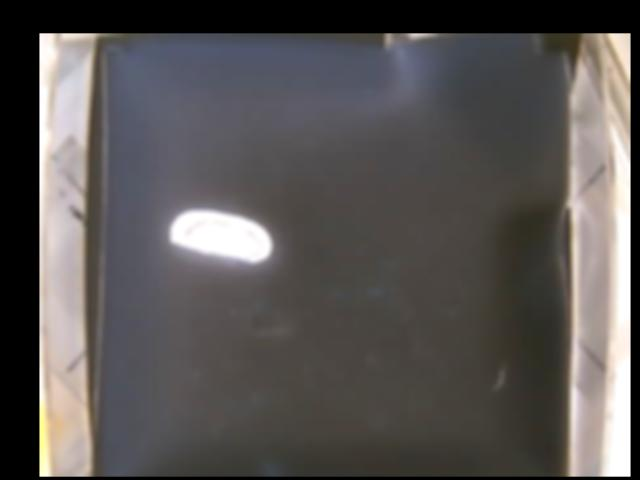Pebble: (167, 206, 272, 264)
